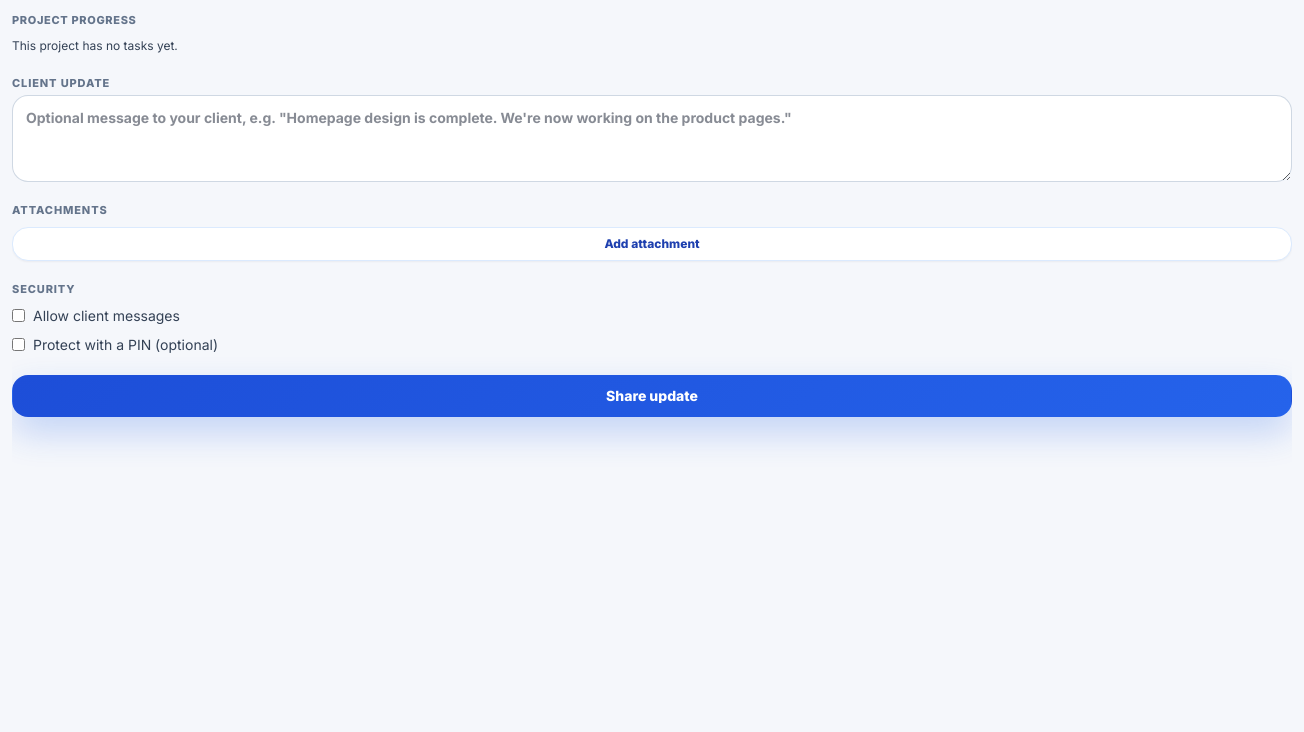
ShareLinkQuickShare - PIN: one checkbox is the enable/disable control (final PIN UX turn) › 3. unchecked -> checked -> PIN input appears (enabling a brand-new PIN)
The width and height of the screenshot is (1304, 732).
Click the checkbox labelled "Protect with a PIN (optional)" at x=18, y=344, box [12,338,25,351]
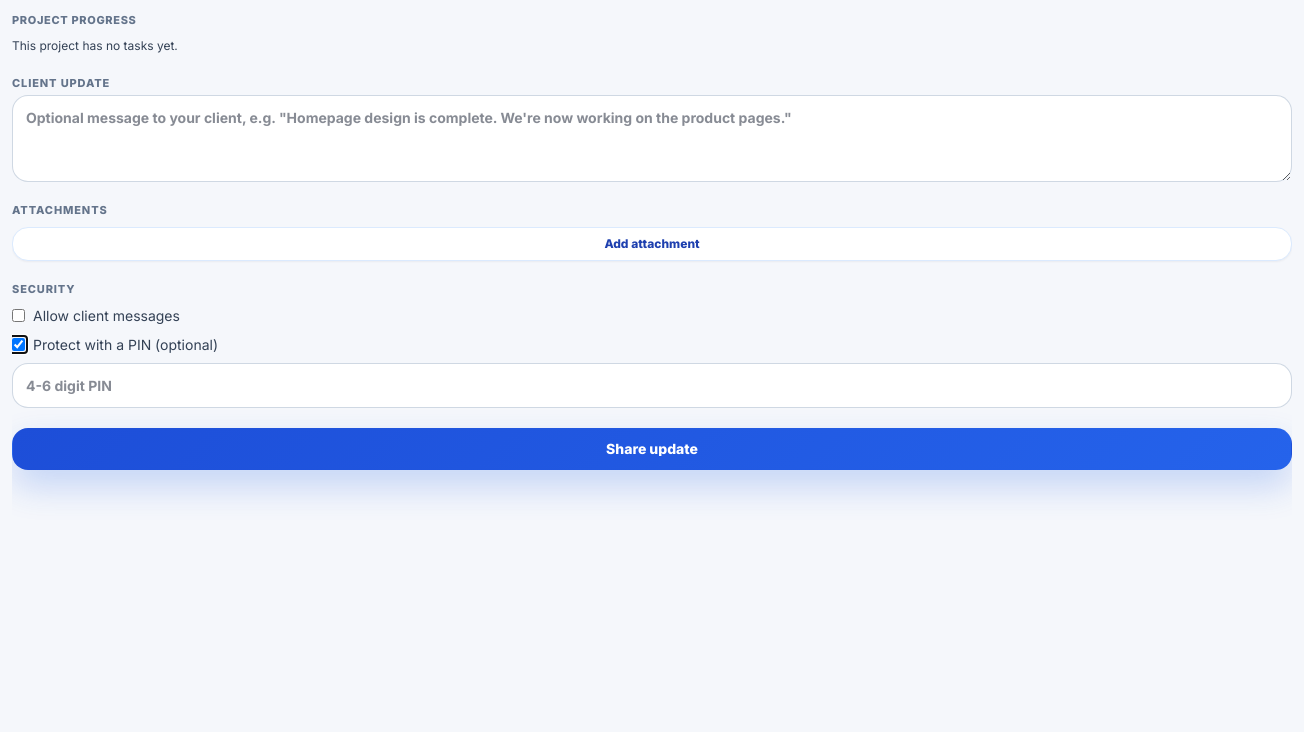
Result: the password field labelled "4-6 digit PIN" is shown at [12,363,1292,408]
